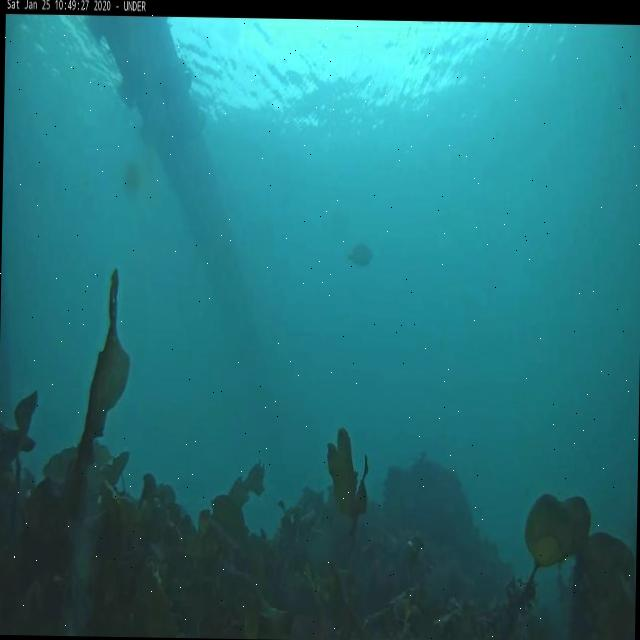fish: (348, 243, 374, 268)
